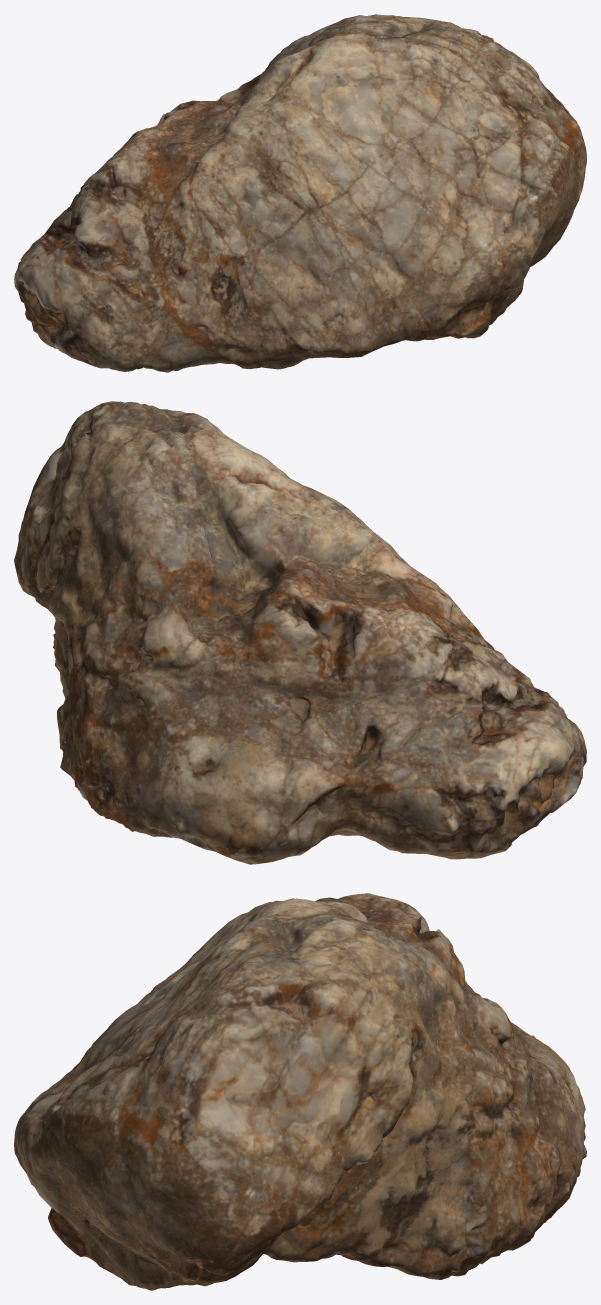
The model's file is rock01.glb.
3 renders of one model, top to bottom at view 1: azimuth 30°, elevation 25°; view 2: azimuth 150°, elevation 25°; view 3: azimuth 270°, elevation 25°, orthographic. The views are drawn at different scales.
Parts seen in each view (by area): view 1: Rock; view 2: Rock; view 3: Rock.
Part boxes in pixels (x1,y1,x2,y2): Rock: (14, 14, 586, 372); Rock: (14, 401, 586, 864); Rock: (14, 893, 586, 1290).
Bounding box in the file's own units: 0.681 × 0.3545 × 0.5246.
Materials: 1 (1 with a texture image).
